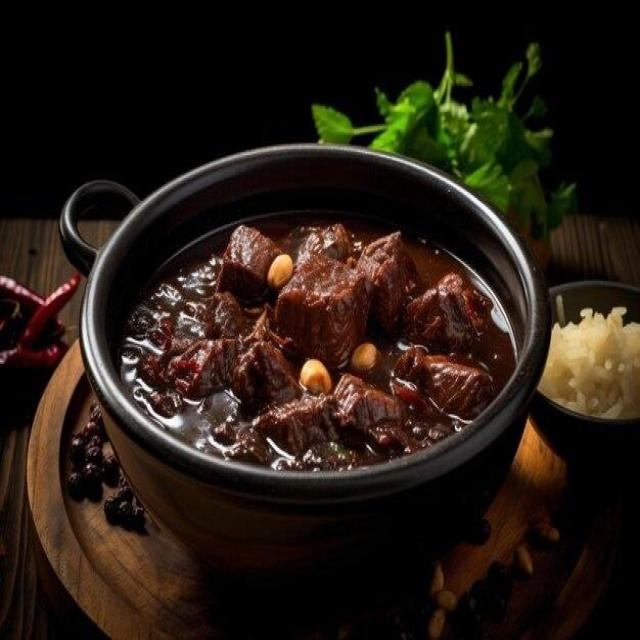Rawon: (98, 196, 512, 464)
